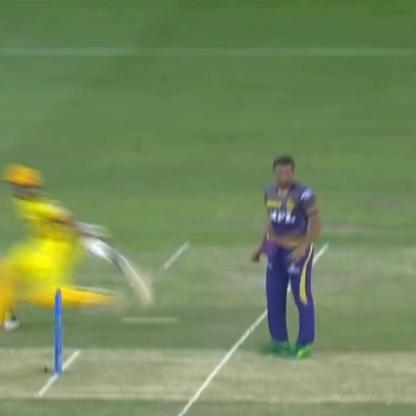bat: (94, 229, 164, 303)
pitch: (1, 343, 416, 416)
